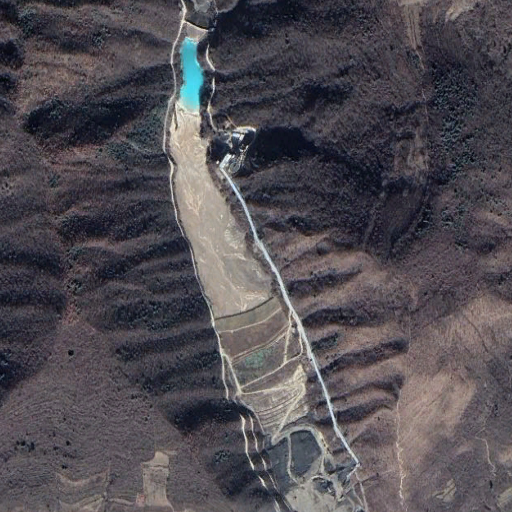tp: (165, 36, 305, 441)
